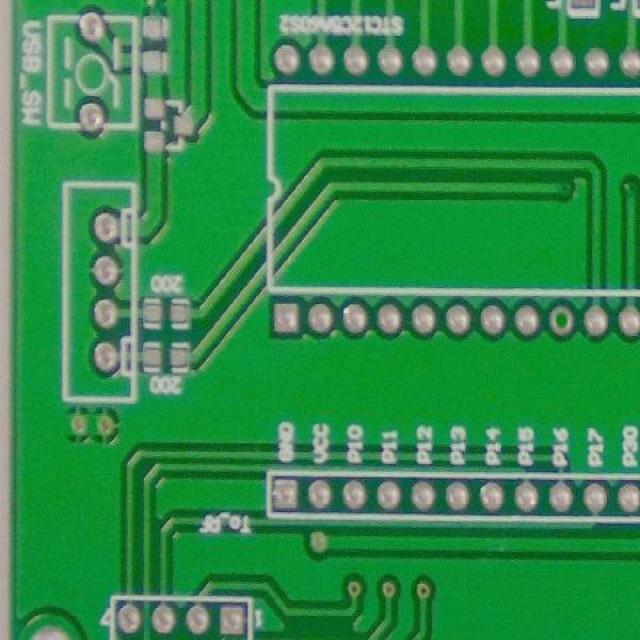missing hole: (546, 300, 581, 343)
